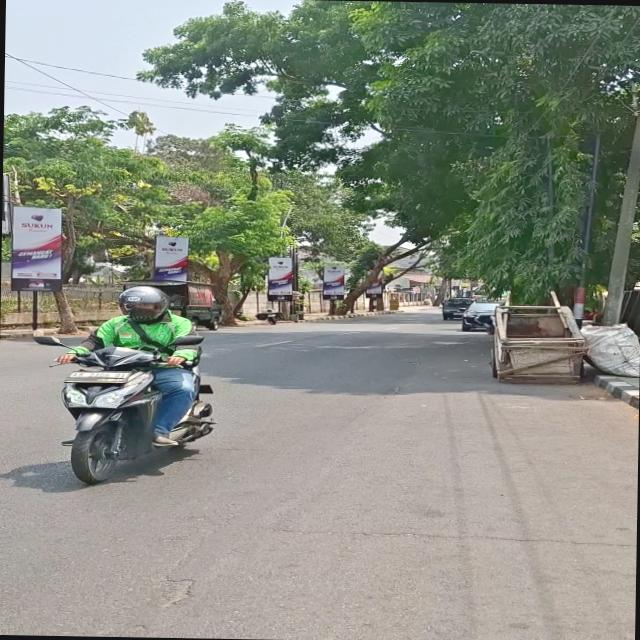WithHelmet: (52, 283, 202, 446)
